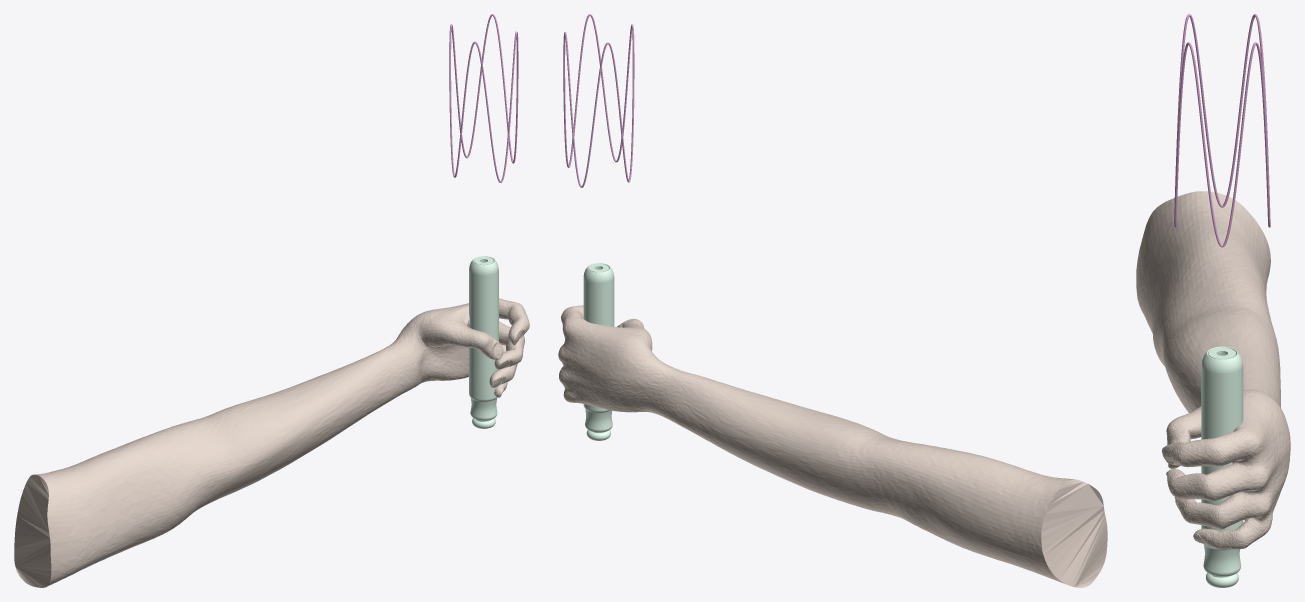
The picture shows the model from 3 angles, left to right: view 1: azimuth 30°, elevation 25°; view 2: azimuth 150°, elevation 25°; view 3: azimuth 270°, elevation 25°; orthographic projection. The views are drawn at different scales.
Parts seen in each view (by area): view 1: NeW Dimensions v13; view 2: NeW Dimensions v13; view 3: NeW Dimensions v13.
Boxes of the visible parts, x1=… form: NeW Dimensions v13: x1=14, y1=14, x2=529, y2=587; NeW Dimensions v13: x1=558, y1=14, x2=1107, y2=587; NeW Dimensions v13: x1=1136, y1=14, x2=1290, y2=587.
Bounding box in the file's own units: 56.17 × 46.15 × 10.67.
